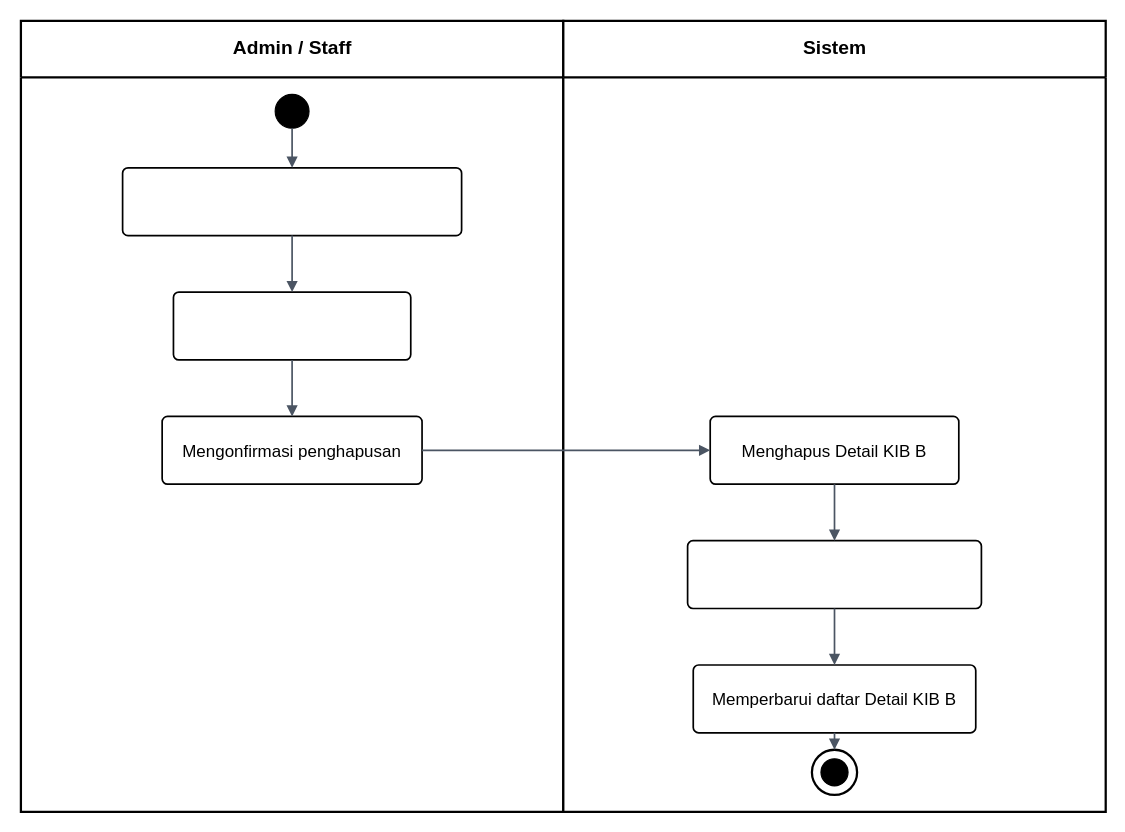
Image size: 1125x832. Some labels were removed from this diagram. The shapes that lost their labels are listed below. From the top down, each one's centre as x and y in pixels, then its label:
At pixel 291 201: "Memilih Detail KIB B yang akan dihapus".
At pixel 291 325: "Memilih aksi Hapus".
At pixel 834 574: "Menghapus tanda KIB B pada barang".
